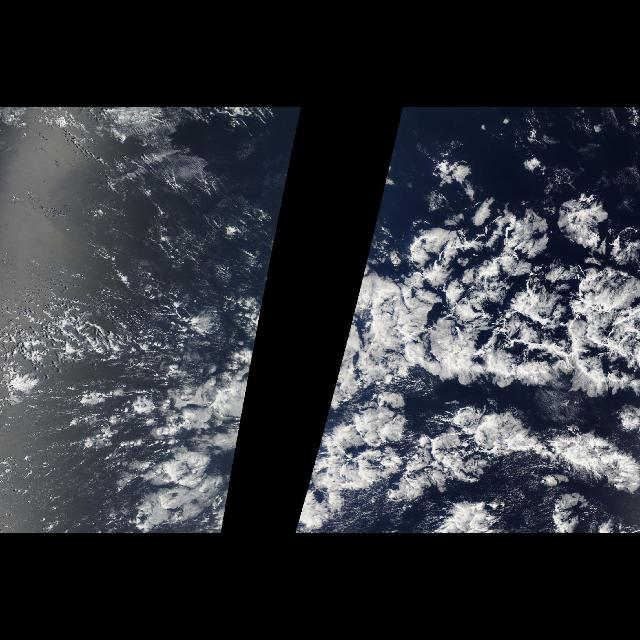Fish: (383, 226, 639, 402), (338, 414, 634, 508)
Flower: (325, 169, 639, 425)
